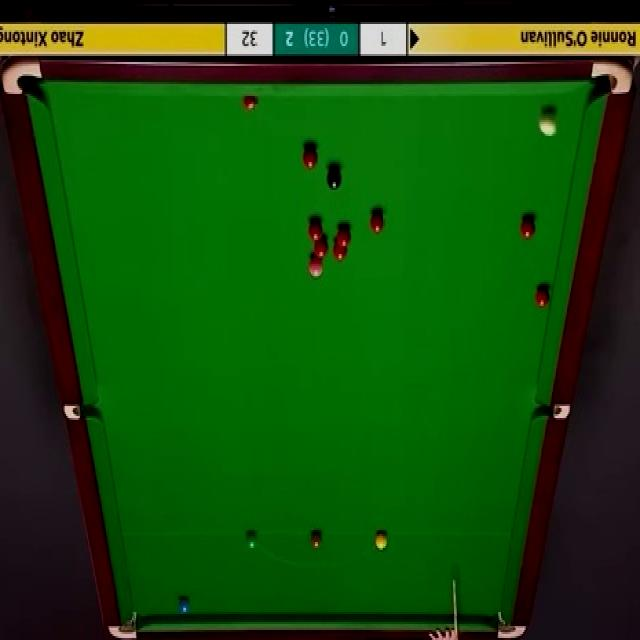black-ball: (325, 167, 341, 189)
blue-ball: (177, 596, 190, 615)
brown-ball: (309, 530, 322, 550)
green-ball: (245, 529, 259, 550)
pink-ball: (308, 256, 324, 281)
red-ball: (369, 208, 385, 235), (533, 284, 550, 308), (302, 146, 318, 170), (520, 216, 536, 240), (314, 238, 330, 260), (308, 220, 323, 243), (333, 239, 347, 262), (337, 226, 351, 247), (243, 96, 259, 111)
white-ball: (538, 106, 557, 139)
yellow-ball: (374, 530, 389, 551)
